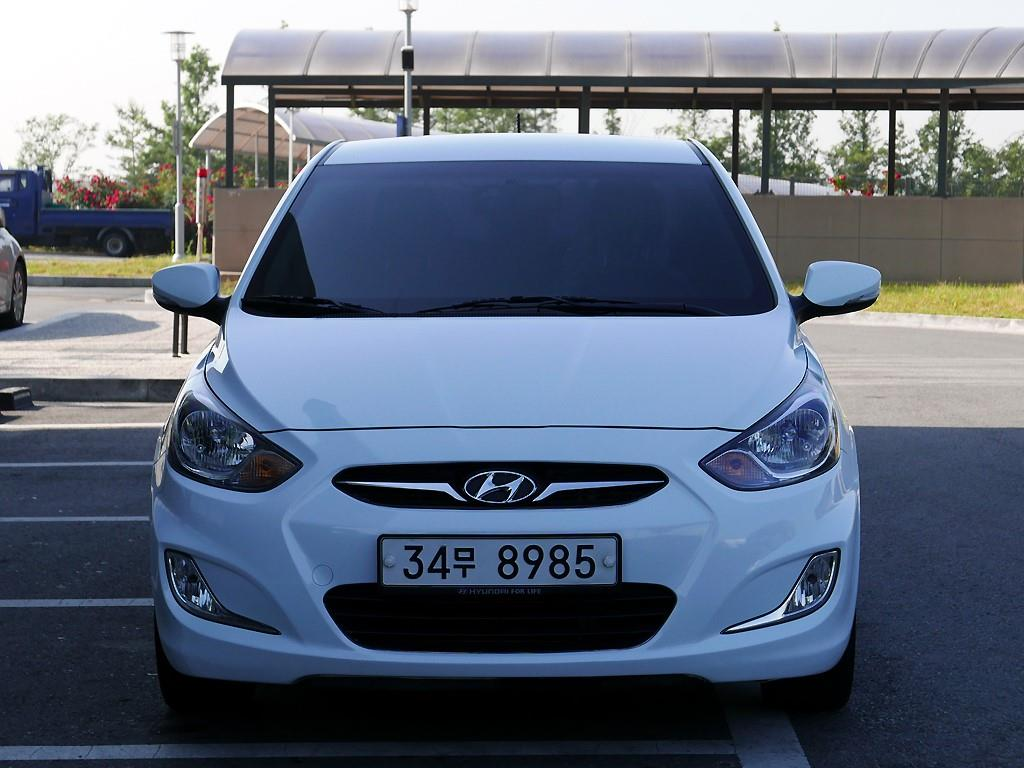plate: (381, 535, 621, 584)
